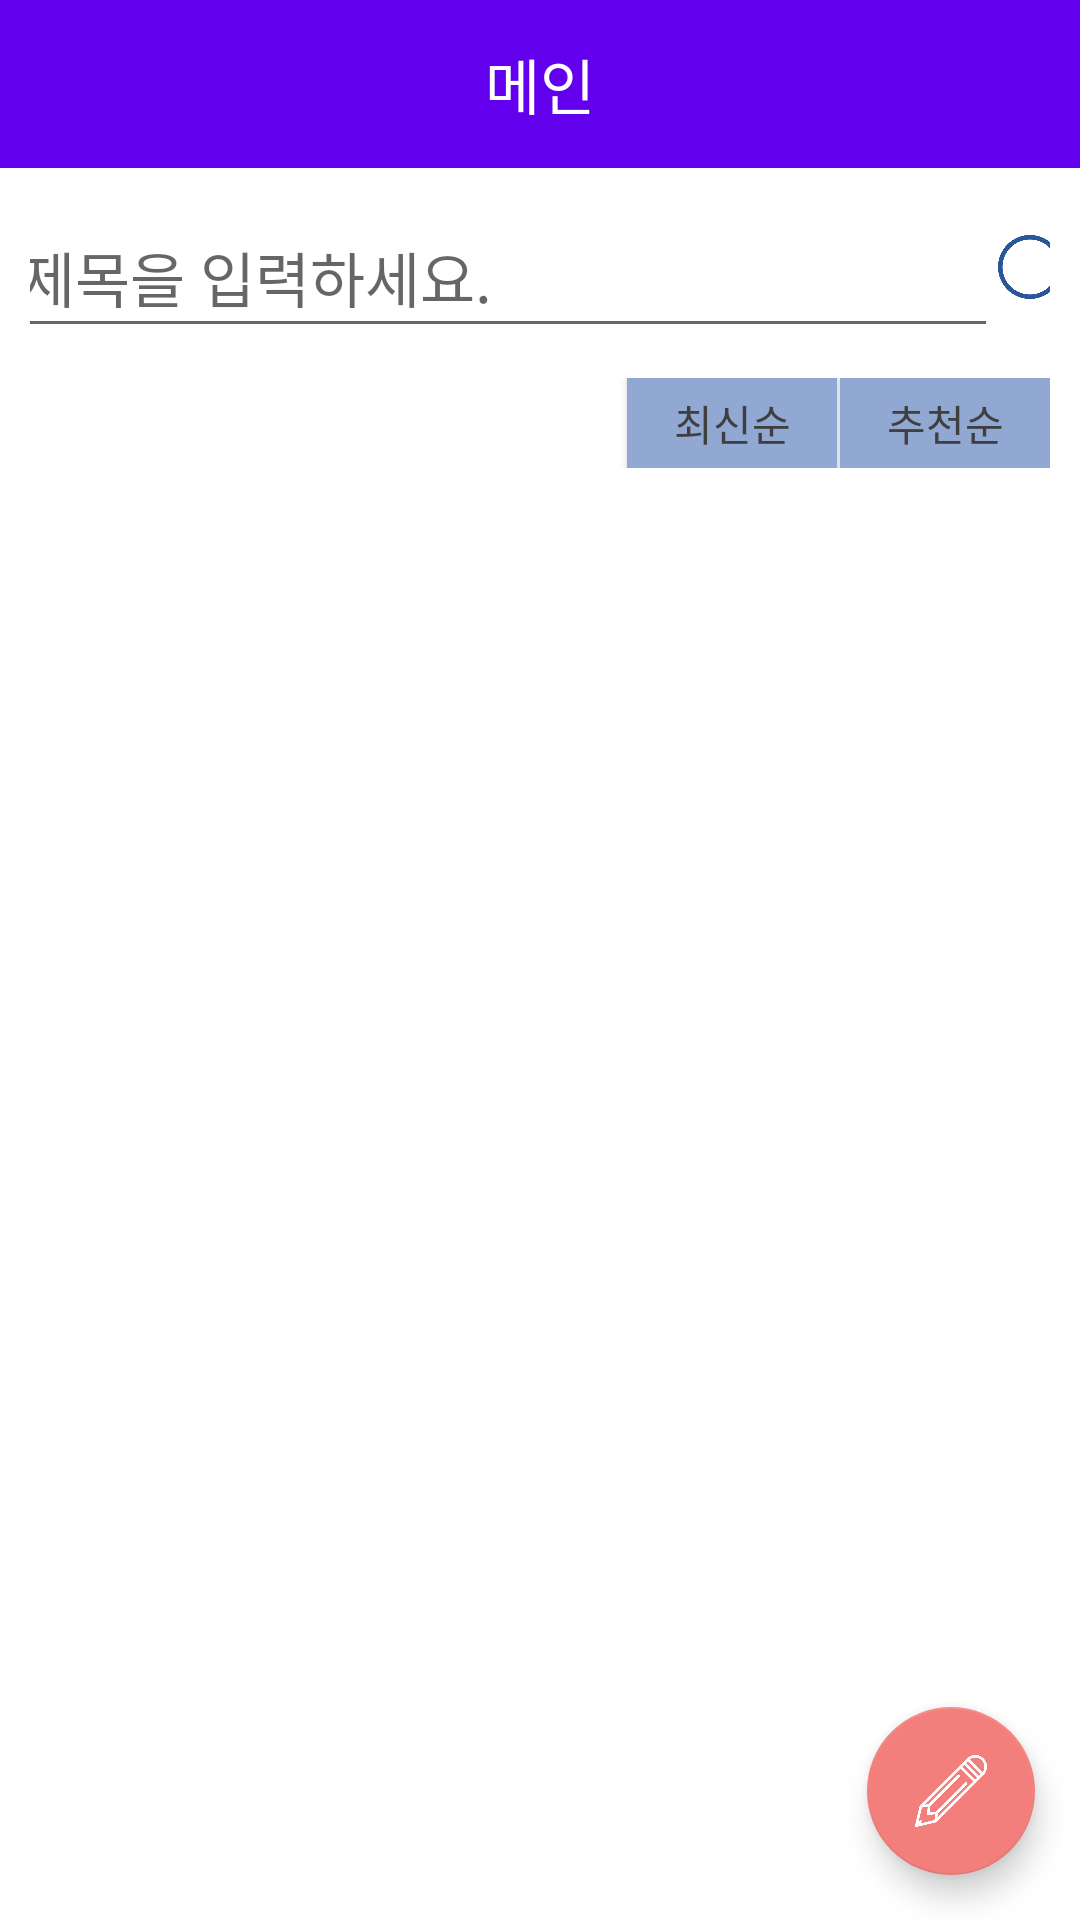

Icon bounding boxes for this 1080x1920 phone screenshot, format (x1, y1, x2, y2):
write: (867, 1707, 1035, 1875)
